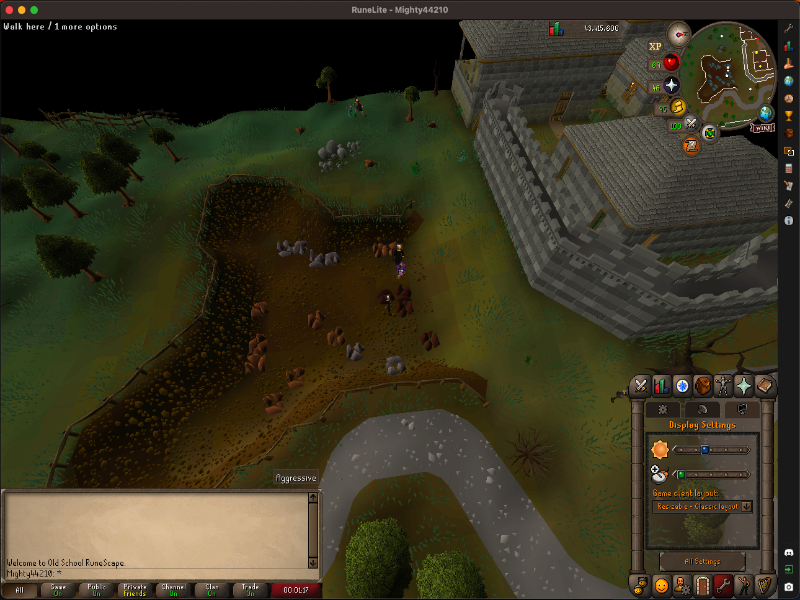iron: (423, 334, 437, 347), (398, 304, 411, 315), (396, 288, 408, 298), (380, 293, 390, 302)
